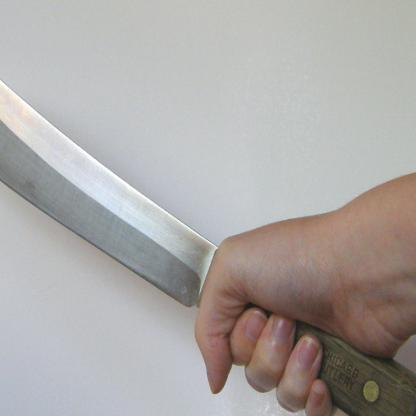knife: (0, 8, 318, 411)
